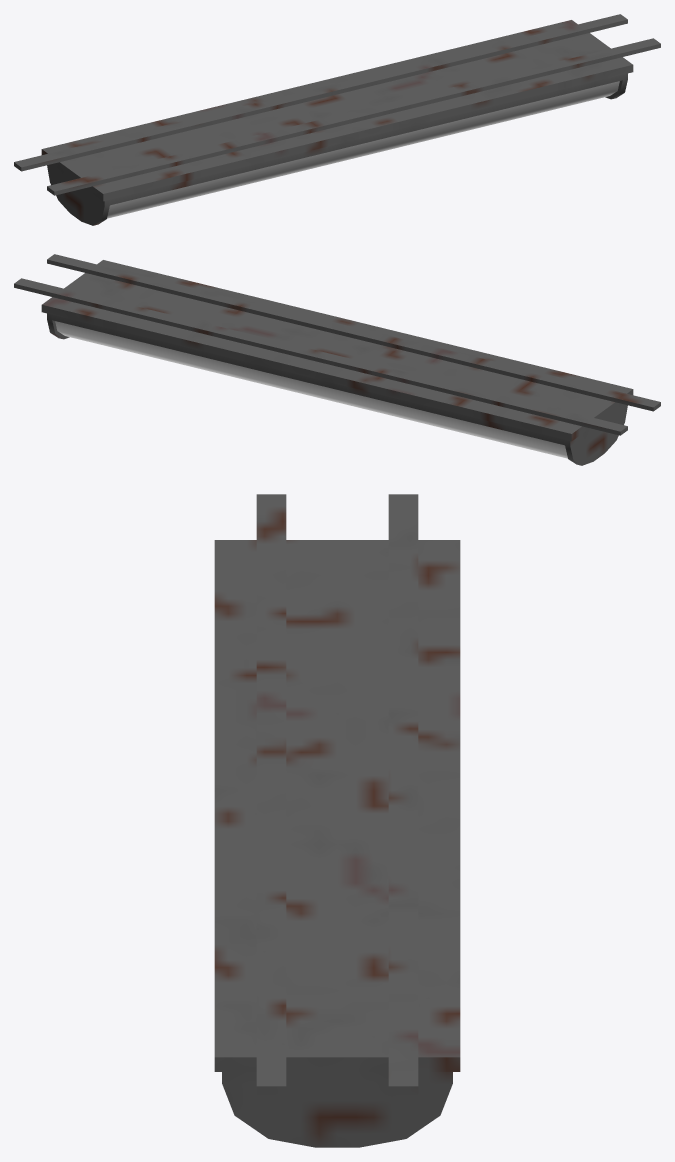
The model's file is LongLamp.fbx.
3 renders of one model, top to bottom at view 1: azimuth 30°, elevation 25°; view 2: azimuth 150°, elevation 25°; view 3: azimuth 270°, elevation 25°, orthographic. The views are drawn at different scales.
Parts seen in each view (by area): view 1: Cube.063; view 2: Cube.063; view 3: Cube.063.
Boxes of the visible parts, bbox=[...] form: Cube.063: bbox=[14, 14, 660, 225]; Cube.063: bbox=[14, 254, 660, 465]; Cube.063: bbox=[214, 494, 460, 1147].
Bounding box in the file's own units: 343 × 27.46 × 60.12.
